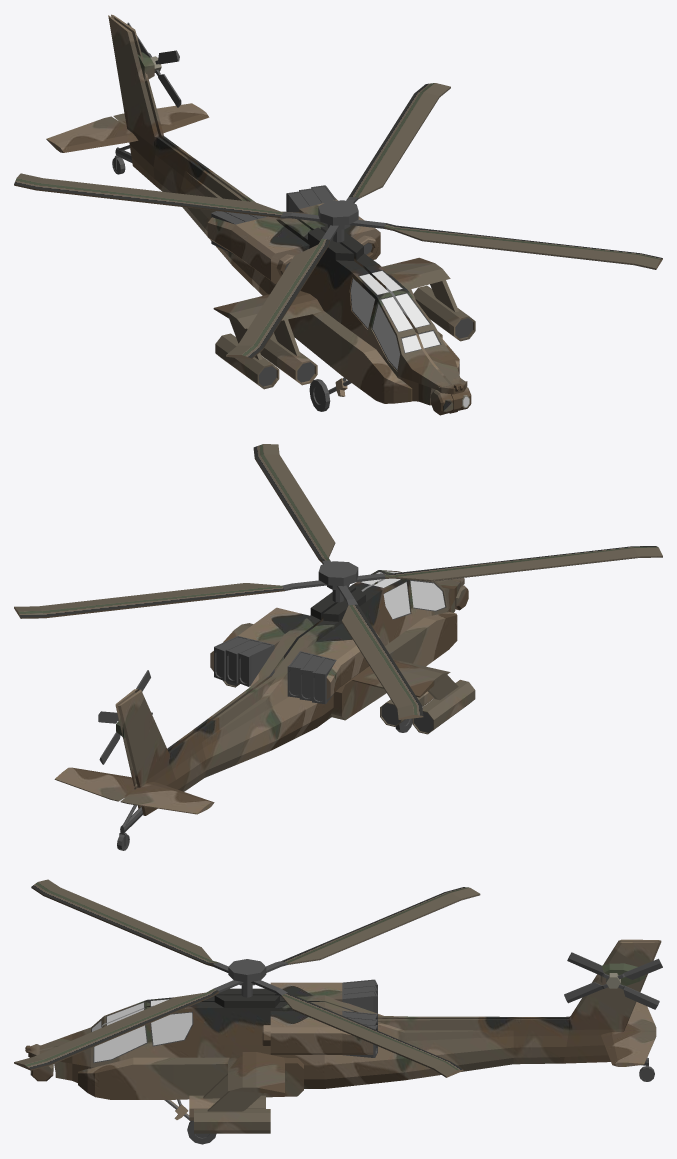
Rendered from ApacheLowPoly.fbx.
The picture shows the model from 3 angles, top to bottom: view 1: azimuth 30°, elevation 25°; view 2: azimuth 150°, elevation 25°; view 3: azimuth 270°, elevation 25°; orthographic projection. The views are drawn at different scales.
Parts seen in each view (by area): view 1: Cube, Cube.009, Cube.001, Cube.007, Cube.005, rotor, Cube.003, Cube.002; view 2: Cube, Cube.009, Cube.005, Cube.001, Cube.007, rotor, Cube.003; view 3: Cube, Cube.009, Cube.001, Cube.007, Cube.003, Cube.005, rotor, Plane.
Part boxes in pixels (bbox=[...]): Cube: bbox=[46, 14, 475, 405]; Cube.009: bbox=[14, 83, 662, 359]; Cube.001: bbox=[288, 311, 459, 411]; Cube.007: bbox=[207, 198, 380, 283]; Cube.005: bbox=[211, 185, 336, 253]; rotor: bbox=[318, 200, 358, 242]; Cube.003: bbox=[127, 22, 181, 107]; Cube.002: bbox=[430, 387, 471, 415]; Cube: bbox=[54, 570, 475, 815]; Cube.009: bbox=[14, 444, 662, 719]; Cube.005: bbox=[214, 636, 336, 704]; Cube.001: bbox=[331, 611, 457, 732]; Cube.007: bbox=[210, 607, 379, 699]; rotor: bbox=[318, 561, 358, 602]; Cube.003: bbox=[98, 670, 152, 764]; Cube: bbox=[39, 939, 661, 1133]; Cube.009: bbox=[14, 879, 480, 1077]; Cube.001: bbox=[78, 1057, 303, 1144]; Cube.007: bbox=[262, 982, 373, 1054]; Cube.003: bbox=[564, 952, 662, 1009]; Cube.005: bbox=[342, 979, 377, 1057]; rotor: bbox=[228, 959, 266, 997]; Plane: bbox=[600, 963, 645, 985].
Size of the model in its own units: 219 by 94.7 by 305.
